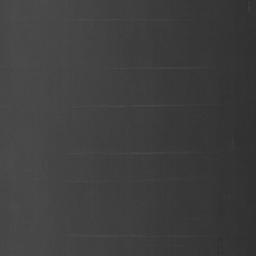Waist folding: (64, 177, 204, 184), (64, 233, 212, 239), (64, 151, 206, 157), (72, 104, 215, 109), (64, 18, 192, 23), (112, 66, 208, 71)
